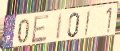0: (17, 18, 31, 45), (67, 11, 80, 39)
1: (105, 7, 113, 35)
E: (31, 13, 50, 45)
I: (54, 13, 64, 42), (84, 9, 92, 37)
